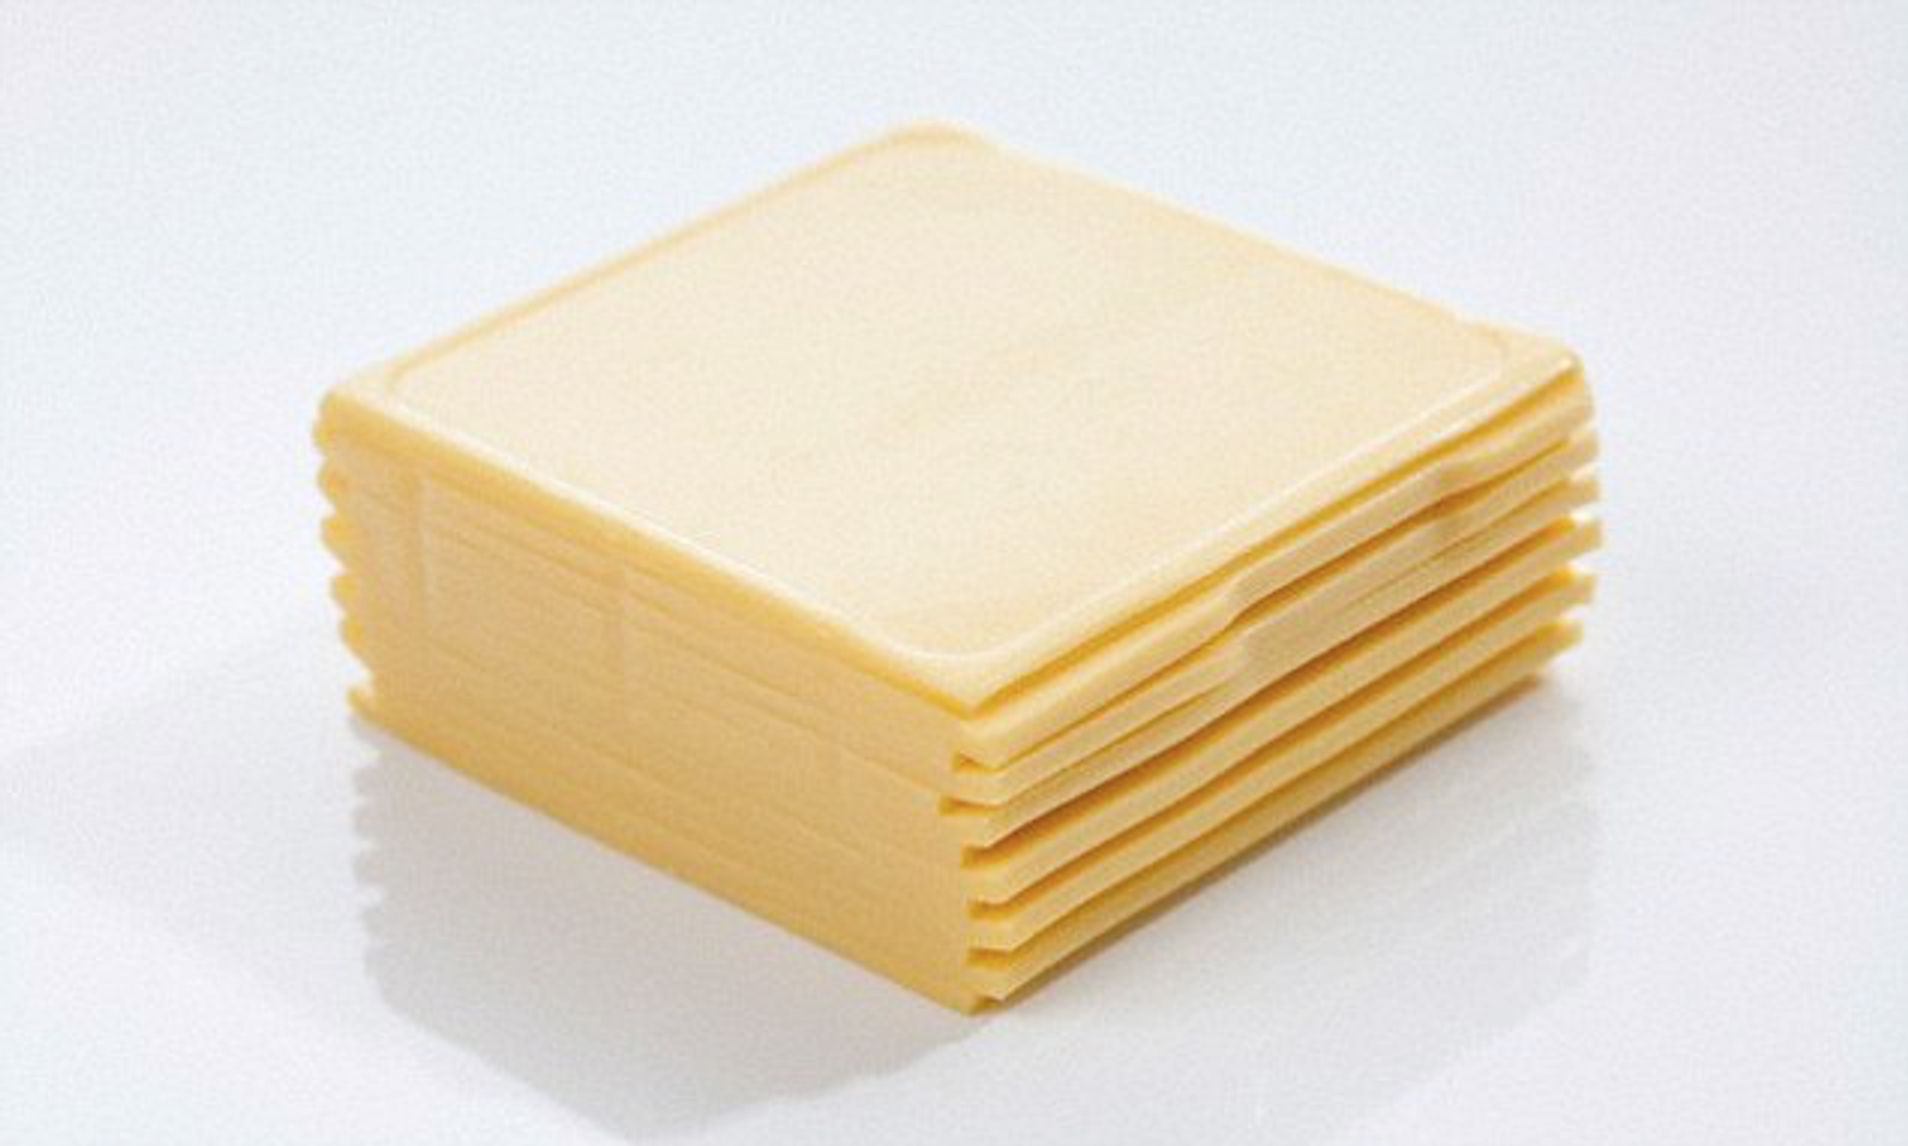cheese: (292, 72, 1652, 1036)
